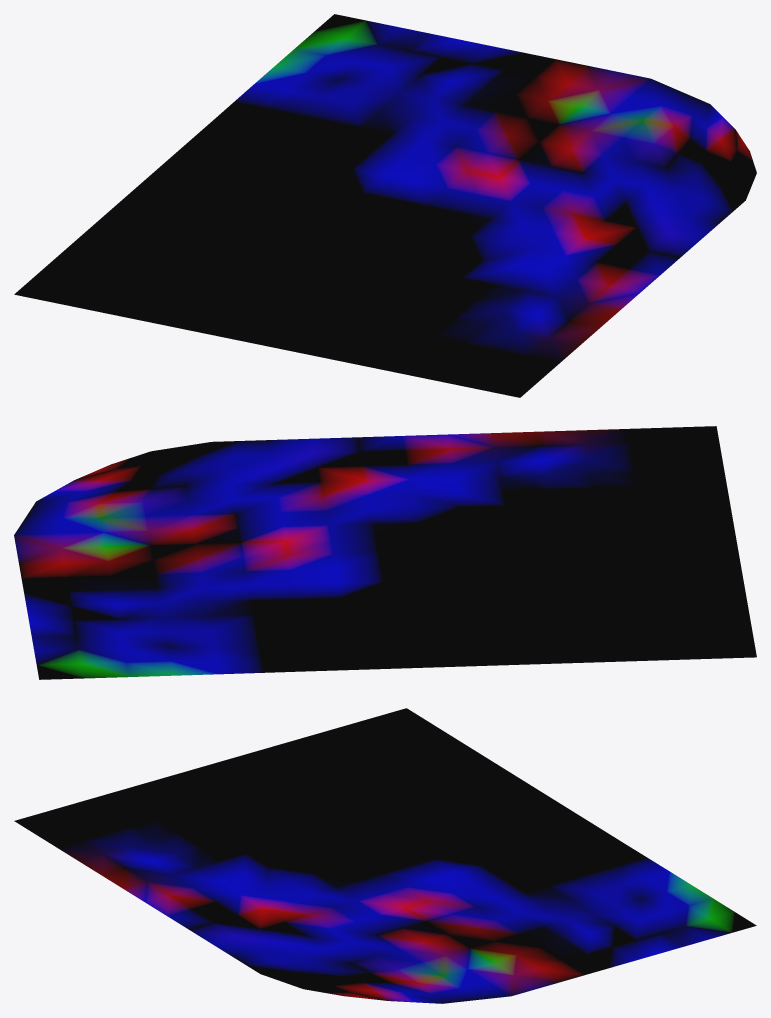
3 renders of one model, top to bottom at view 1: azimuth 30°, elevation 25°; view 2: azimuth 150°, elevation 25°; view 3: azimuth 270°, elevation 25°, orthographic. The views are drawn at different scales.
Visible parts, largest first — view 1: Sprite__3_; view 2: Sprite__3_; view 3: Sprite__3_.
Boxes of the visible parts, <box> form: Sprite__3_: <box>14,14,756,397</box>; Sprite__3_: <box>14,426,756,679</box>; Sprite__3_: <box>14,708,756,1003</box>.
Bounding box in the file's own units: 3142 × 4.79e-08 × 3336.
